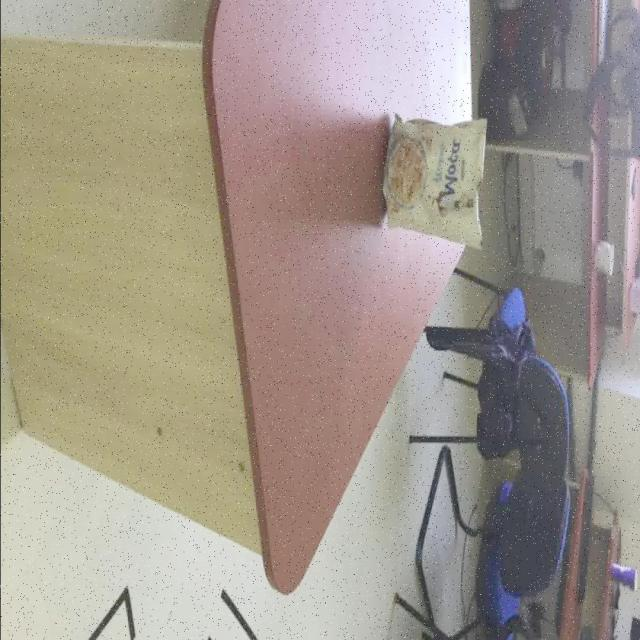CornFlakes: (382, 114, 488, 251), (386, 138, 428, 216)
